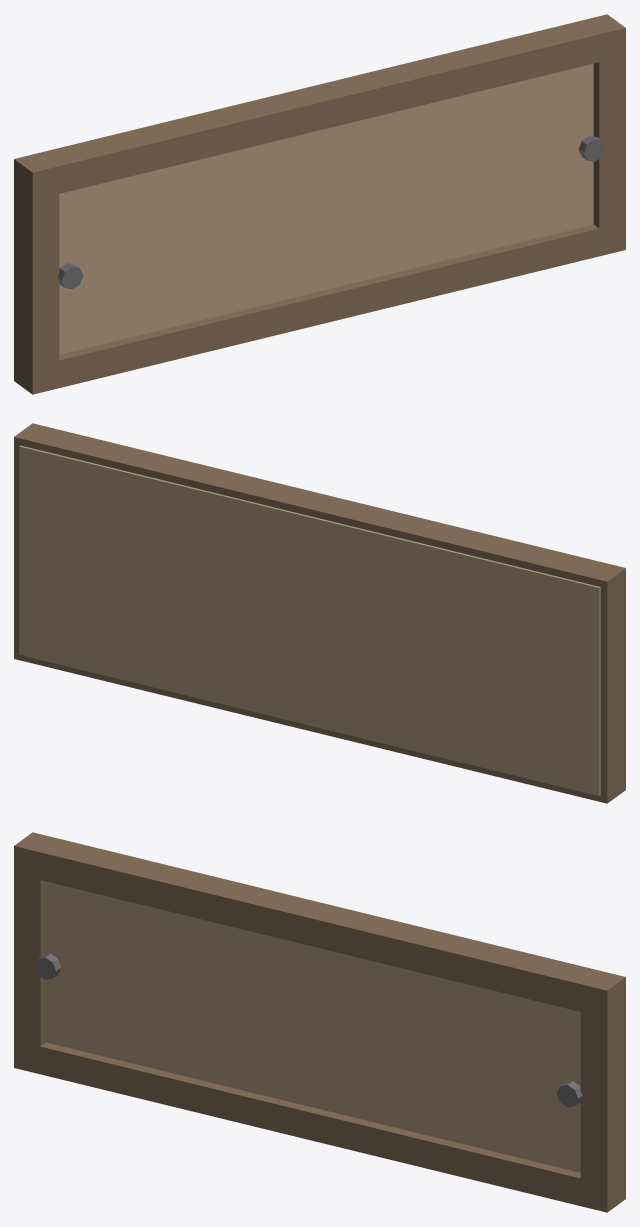
Rendered from street_wall_3e77b465.glb.
3 renders of one model, top to bottom at view 1: azimuth 30°, elevation 25°; view 2: azimuth 150°, elevation 25°; view 3: azimuth 330°, elevation 25°, orthographic.
Visible parts, largest first — view 1: street_wall; view 2: street_wall; view 3: street_wall.
Boxes of the visible parts, left/top/right/bottom form: street_wall: left=14, top=14, right=625, bottom=394; street_wall: left=14, top=423, right=625, bottom=803; street_wall: left=14, top=832, right=625, bottom=1212.
Size of the model in its own units: 0.716 by 0.256 by 0.051.
